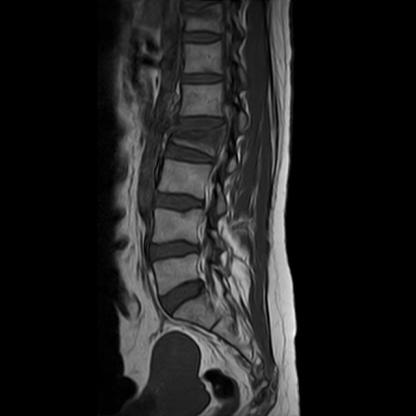Annular Tearrotation: (156, 283, 211, 312)
Fracturerotation: (162, 111, 237, 166)
